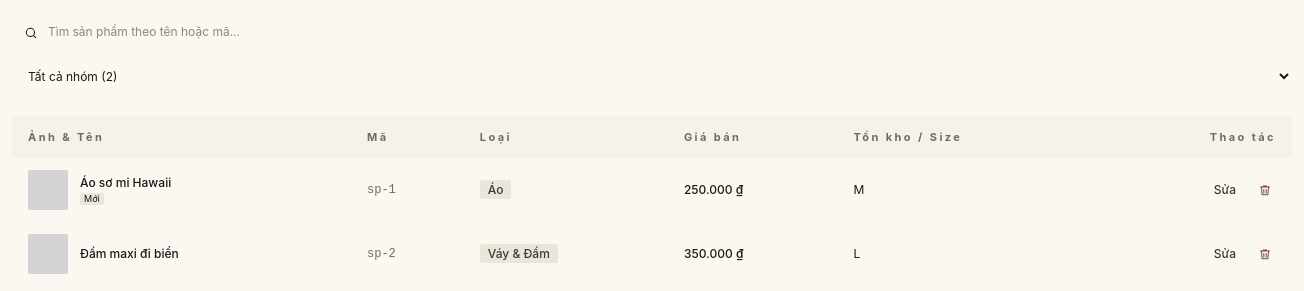
AdminProductsTab › lọc sản phẩm theo ô tìm kiếm
Type "maxi" into the field with placeholder "Tìm sản phẩm theo tên hoặc mã...". click: (652,32)
box: x1=12 y1=16 x2=1292 y2=48
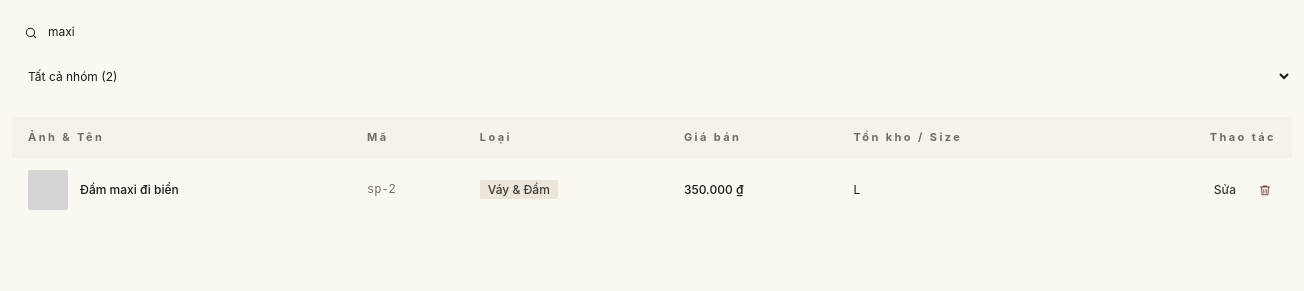
Expected: the text "Đầm maxi đi biển" is shown, x1=80 y1=182 x2=179 y2=198
Expected: the text "Áo sơ mi Hawaii" is gone
